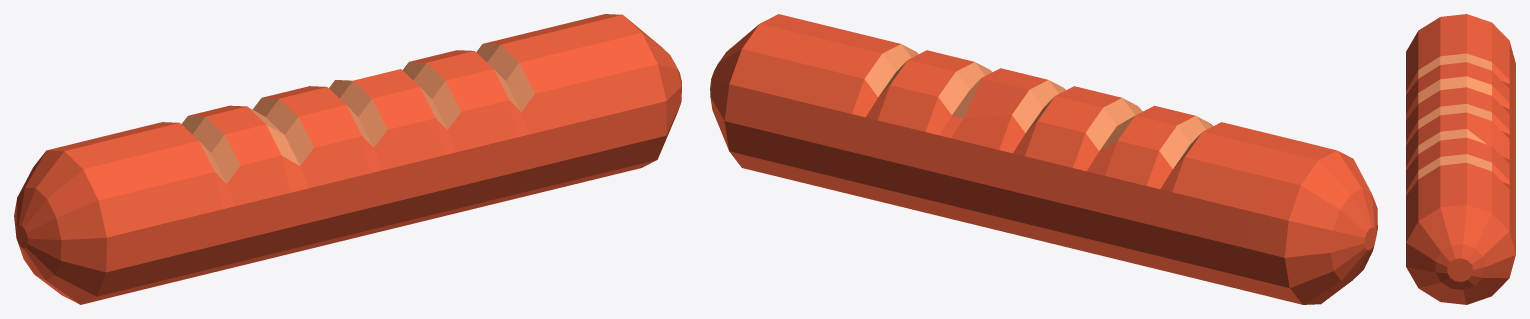
Rendered from SausageBaked.fbx.
3 views of the same model, side by side, from view 1: azimuth 30°, elevation 25°; view 2: azimuth 150°, elevation 25°; view 3: azimuth 270°, elevation 25° (orthographic). The views are drawn at different scales.
Visible parts, largest first — view 1: SausageBaked; view 2: SausageBaked; view 3: SausageBaked.
Boxes of the visible parts, bbox=[...] form: SausageBaked: bbox=[14, 14, 681, 304]; SausageBaked: bbox=[710, 14, 1377, 304]; SausageBaked: bbox=[1406, 14, 1515, 304].
Size of the model in its own units: 246 by 51.92 by 51.49.
